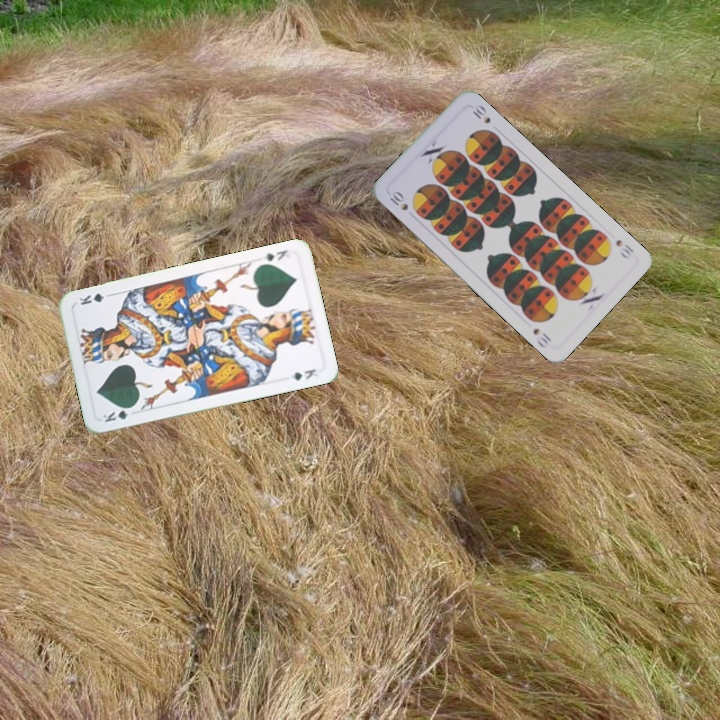GK: (99, 402, 137, 425), (259, 246, 290, 264)
S10: (612, 235, 637, 261), (386, 188, 411, 213)
